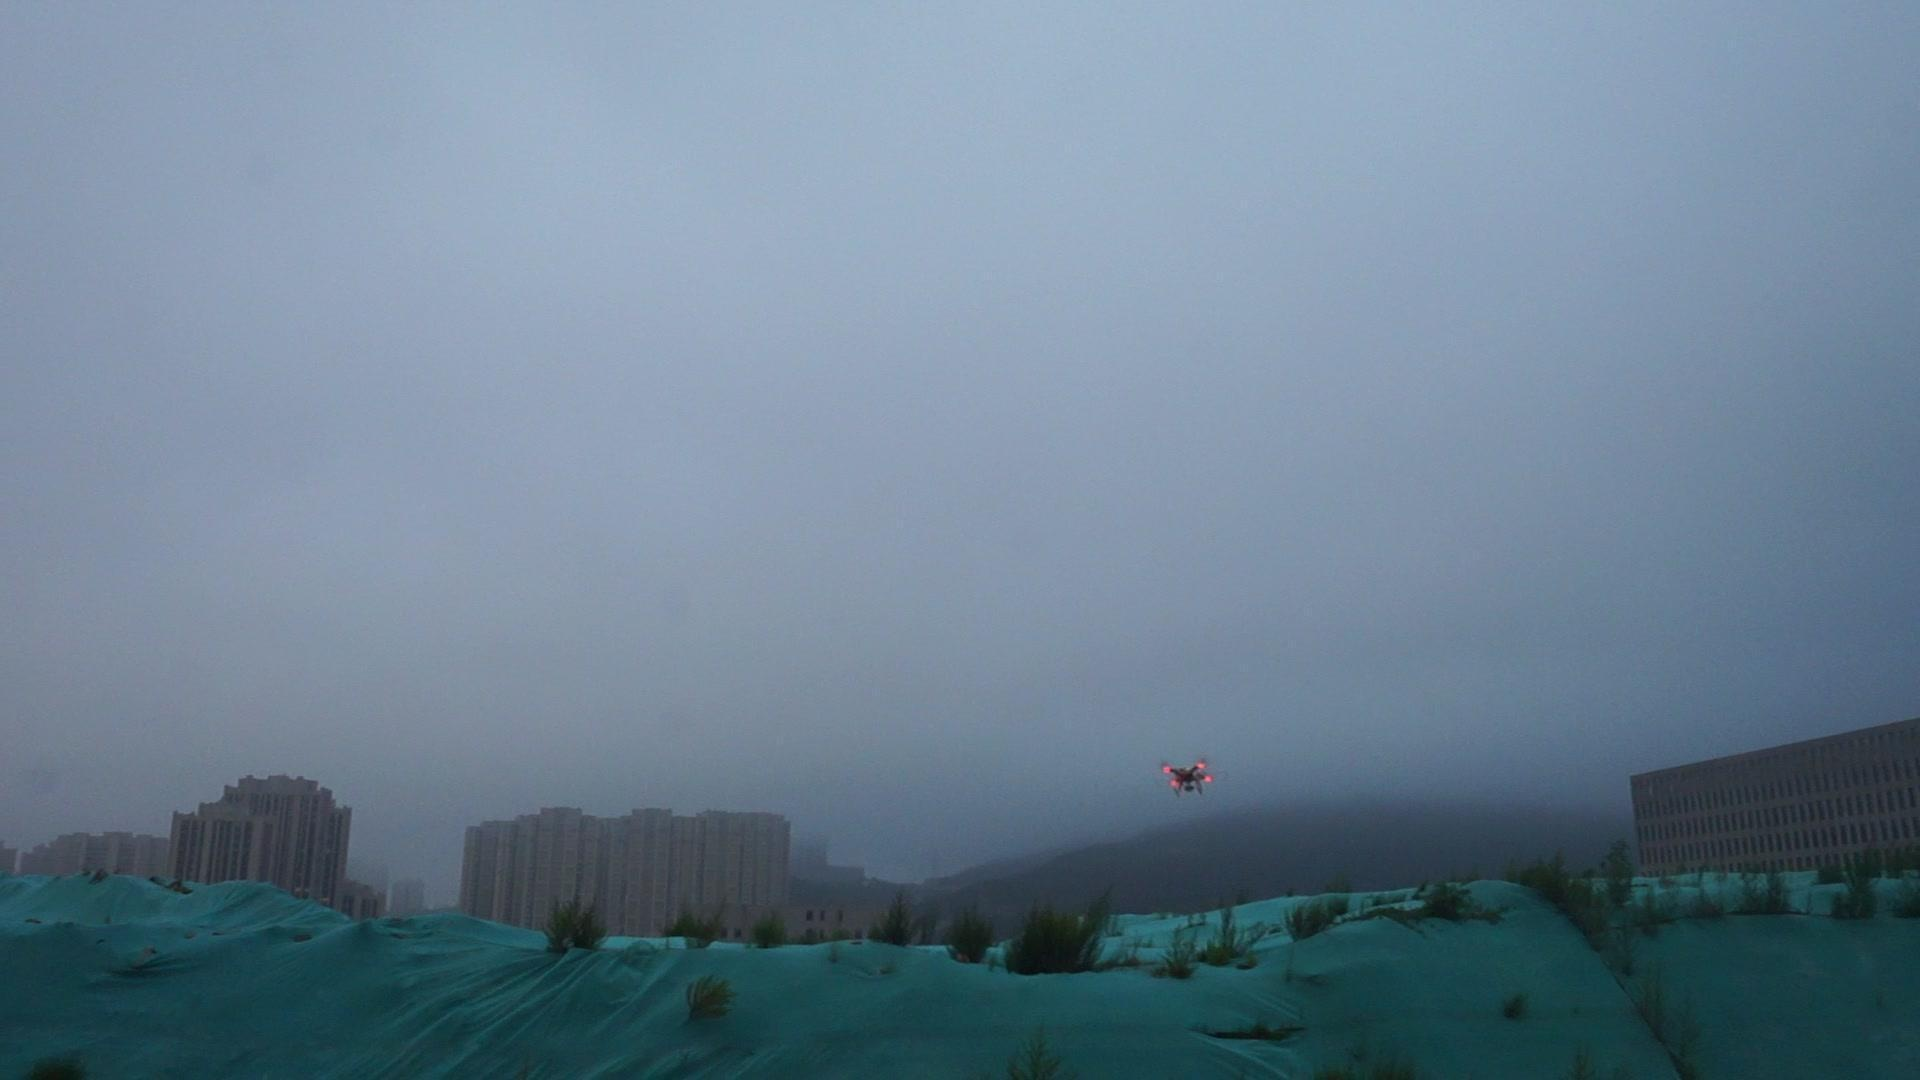UAV: (1162, 761, 1215, 798)
